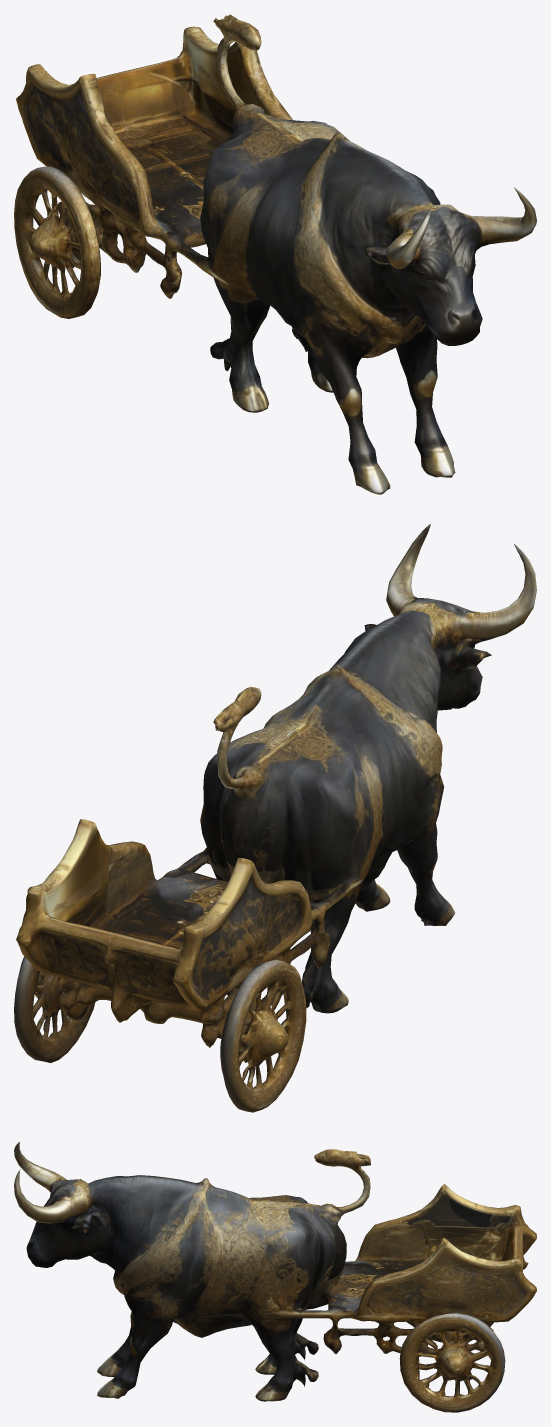
The model's file is Meshy_AI__Create_an_ultra_real_0319015610_texture.glb.
The picture shows the model from 3 angles, top to bottom: view 1: azimuth 30°, elevation 25°; view 2: azimuth 150°, elevation 25°; view 3: azimuth 270°, elevation 25°; orthographic projection. The views are drawn at different scales.
Bounding box in the file's own units: 0.7869 × 0.9873 × 1.99.
Materials: 1 (1 with a texture image).
